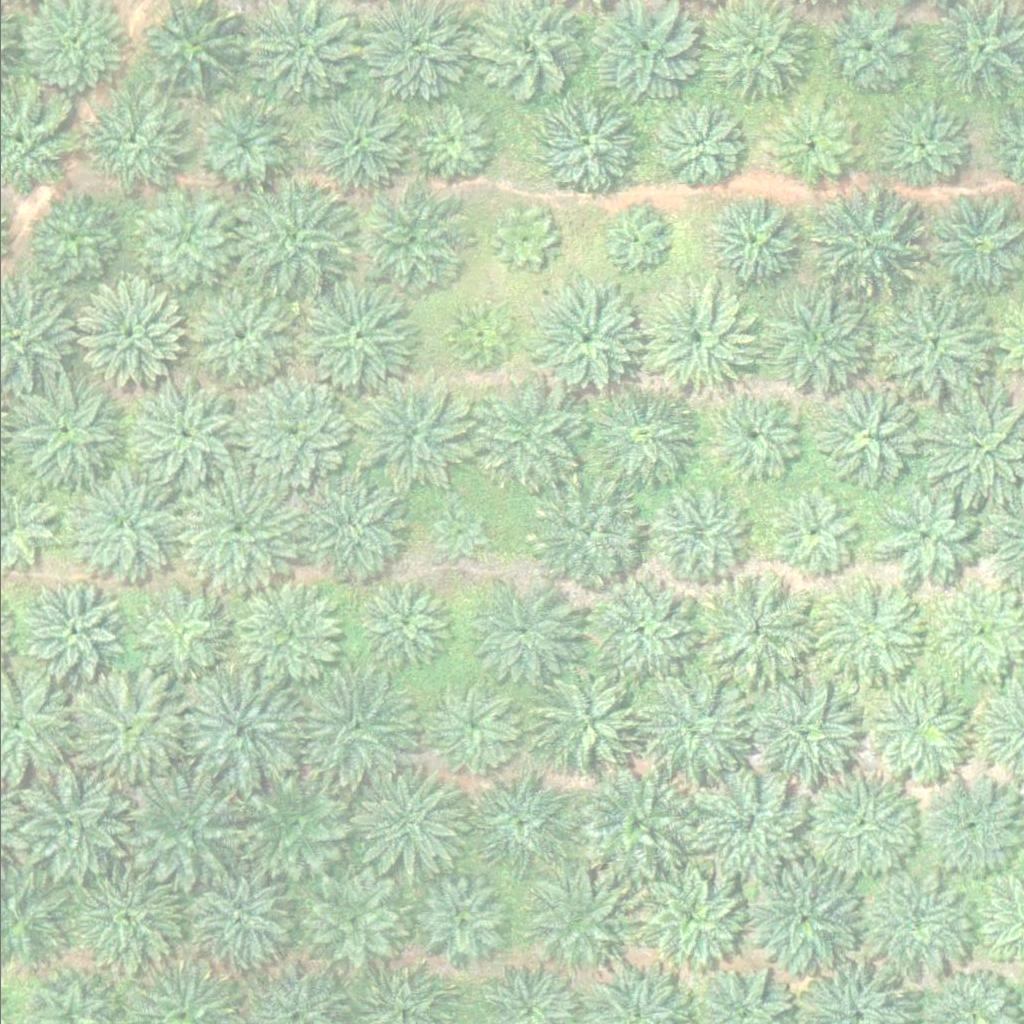Kelapa_Sawit: (806, 183, 920, 296), (240, 765, 354, 878), (304, 671, 418, 784), (460, 577, 574, 690), (130, 772, 244, 885), (698, 189, 811, 302), (636, 281, 749, 394), (808, 578, 921, 691), (699, 570, 812, 683), (861, 870, 974, 983), (751, 862, 864, 975), (630, 864, 743, 977), (631, 675, 744, 788), (532, 666, 645, 779), (183, 671, 296, 784), (580, 575, 693, 688), (359, 374, 472, 487), (236, 378, 349, 491), (525, 283, 638, 396), (299, 280, 412, 393), (69, 280, 182, 393), (124, 373, 237, 486), (10, 376, 123, 489), (70, 672, 183, 785), (11, 767, 124, 880), (874, 289, 988, 401), (762, 286, 876, 398), (694, 383, 808, 495), (179, 860, 293, 972), (525, 477, 639, 589), (582, 380, 696, 492), (71, 868, 185, 980), (812, 384, 925, 496), (744, 678, 857, 790), (801, 766, 914, 878), (689, 767, 802, 879), (519, 866, 632, 978), (579, 769, 692, 881), (467, 765, 580, 877), (355, 767, 468, 879), (228, 578, 341, 690), (294, 472, 407, 584), (181, 474, 294, 586), (470, 383, 583, 495), (180, 280, 293, 392), (353, 184, 466, 296), (231, 183, 344, 295), (526, 92, 639, 204), (295, 86, 408, 198), (63, 468, 176, 580), (875, 483, 976, 583), (869, 679, 970, 779), (405, 872, 506, 972), (302, 872, 403, 972), (190, 94, 291, 194), (135, 194, 236, 294), (25, 195, 126, 295), (135, 583, 236, 683), (24, 579, 125, 679), (870, 96, 970, 196), (647, 486, 747, 586), (424, 676, 524, 776), (355, 574, 455, 674), (86, 97, 186, 197), (650, 101, 738, 189), (410, 98, 498, 186), (766, 101, 854, 188), (769, 492, 857, 579), (448, 304, 511, 367), (602, 212, 665, 275), (491, 207, 554, 270), (428, 501, 491, 563)
